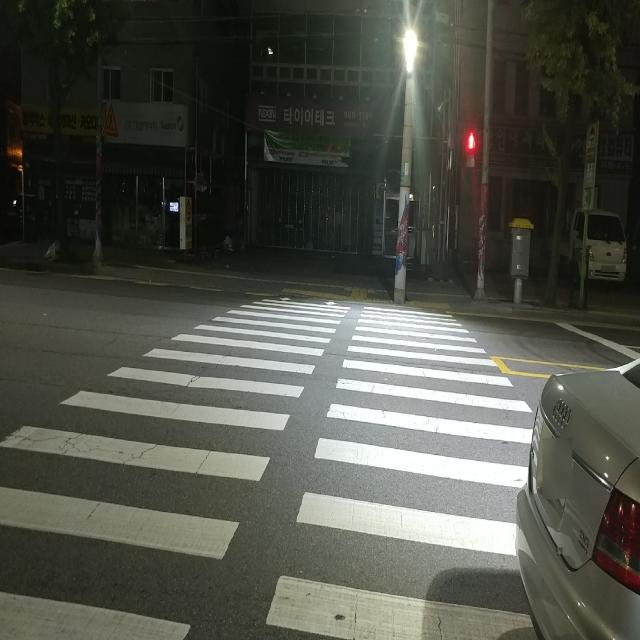빨간불: (464, 132, 479, 179)
횡단보도: (0, 294, 533, 640)
